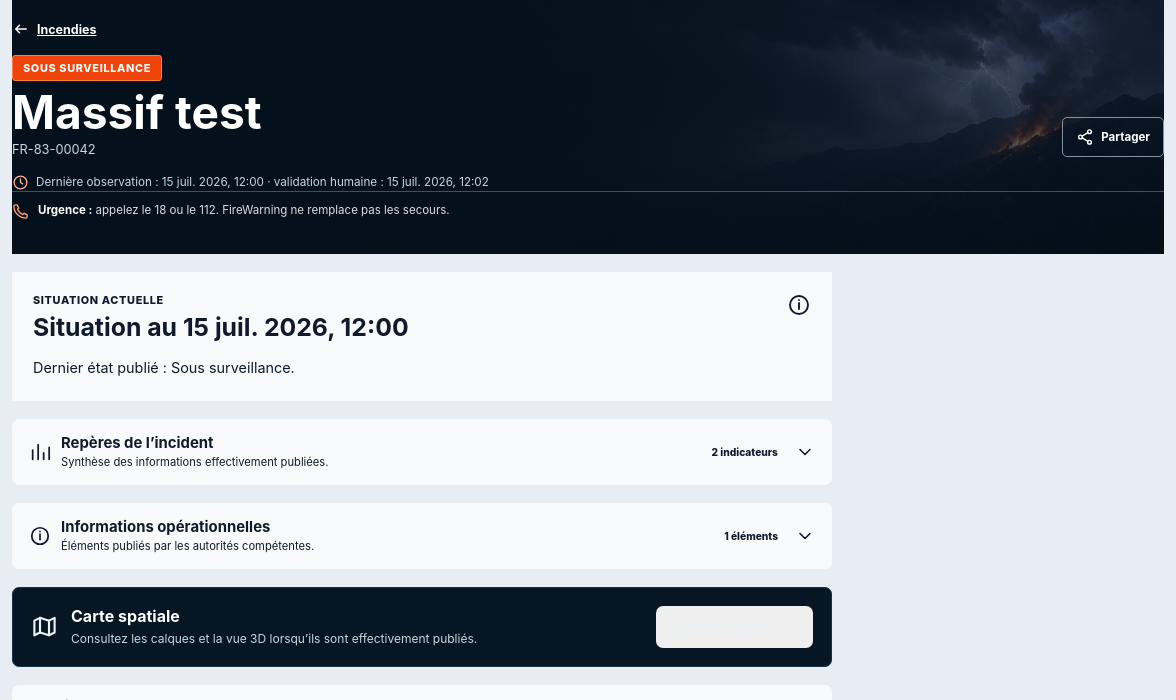
Test: affiche une information opérationnelle uniquement lorsqu’elle est fournie par le contrat public
Expected: the text "Informations opérationnelles" is shown, [61,518,270,536]
Step 1. Click the heading "Informations opérationnelles" → (166, 527), box [29,518,815,553]
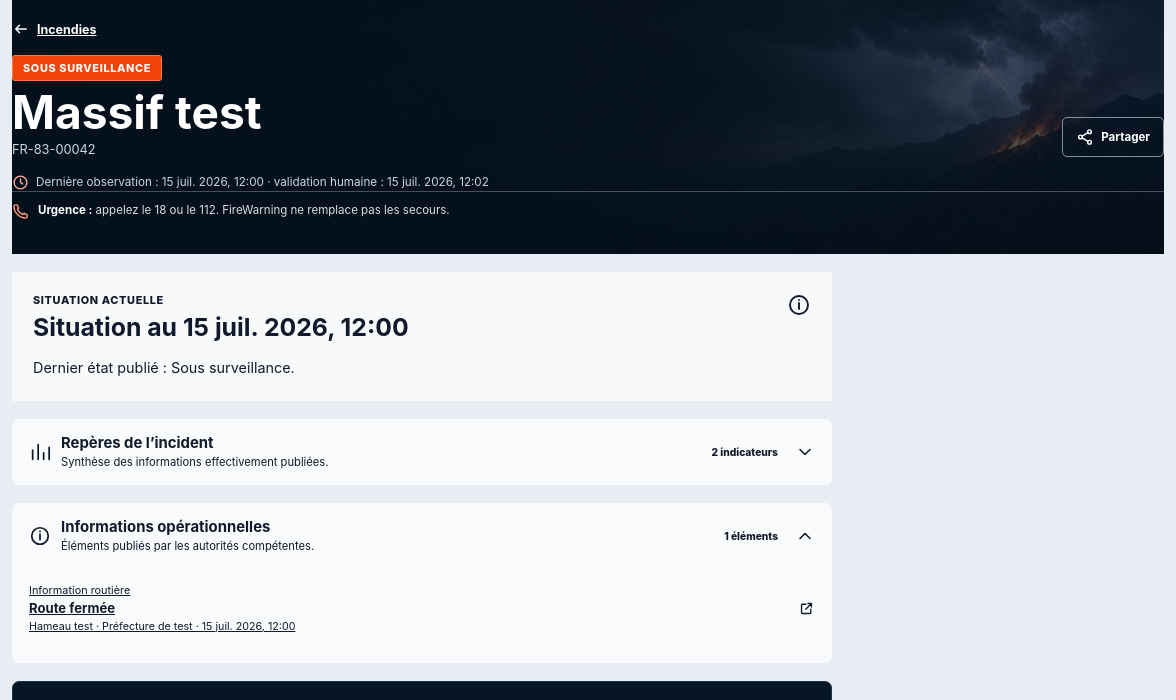
Expected: the text "Hameau test · Préfecture de test · 15 juil. 2026, 12:00" is shown, [29,620,295,633]
